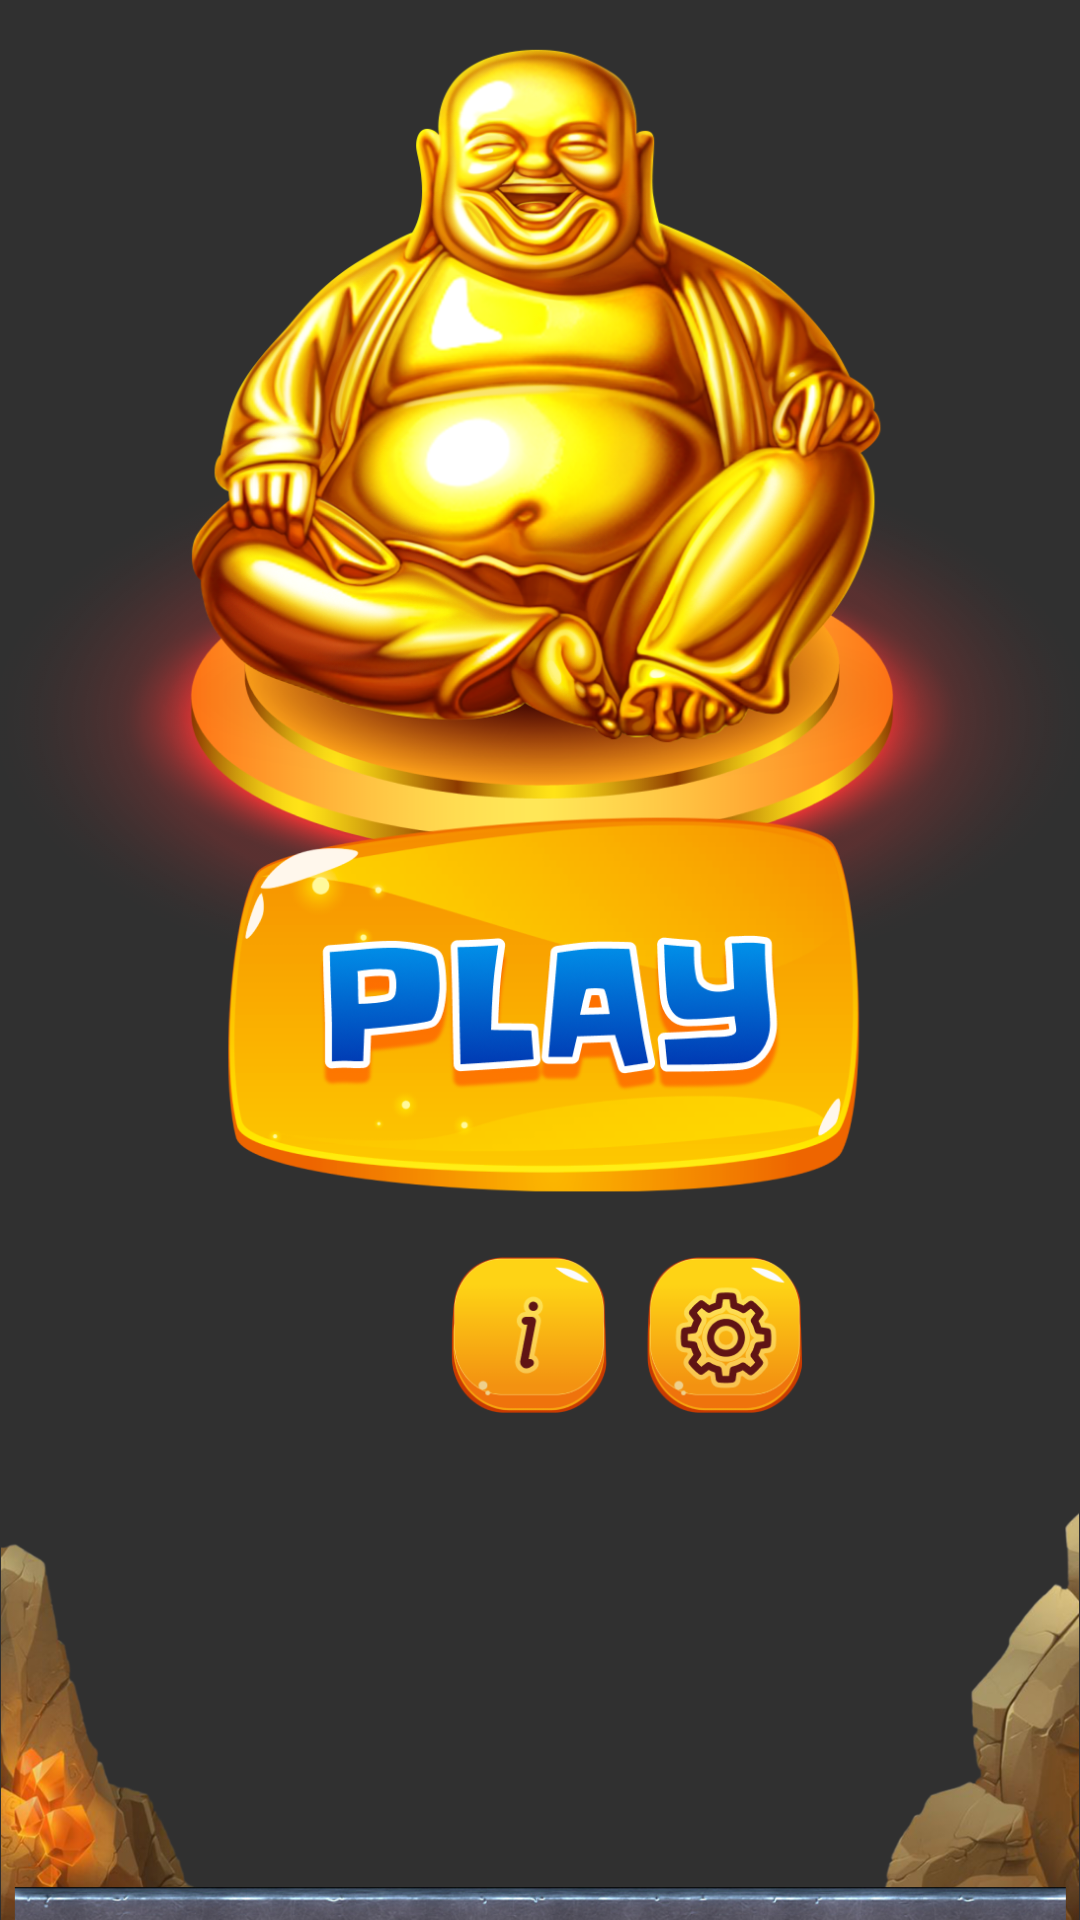

Where icons sit on this 1080*1920 app screen, as [left=x1, top=y1, right=x2, bottom=y2]:
rules: [left=452, top=1257, right=607, bottom=1413]
settings: [left=647, top=1257, right=802, bottom=1413]
